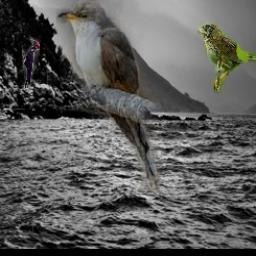Cuckoo: (56, 0, 161, 193)
Sparrow: (199, 24, 256, 94)
Woodpecker: (23, 38, 41, 90)
